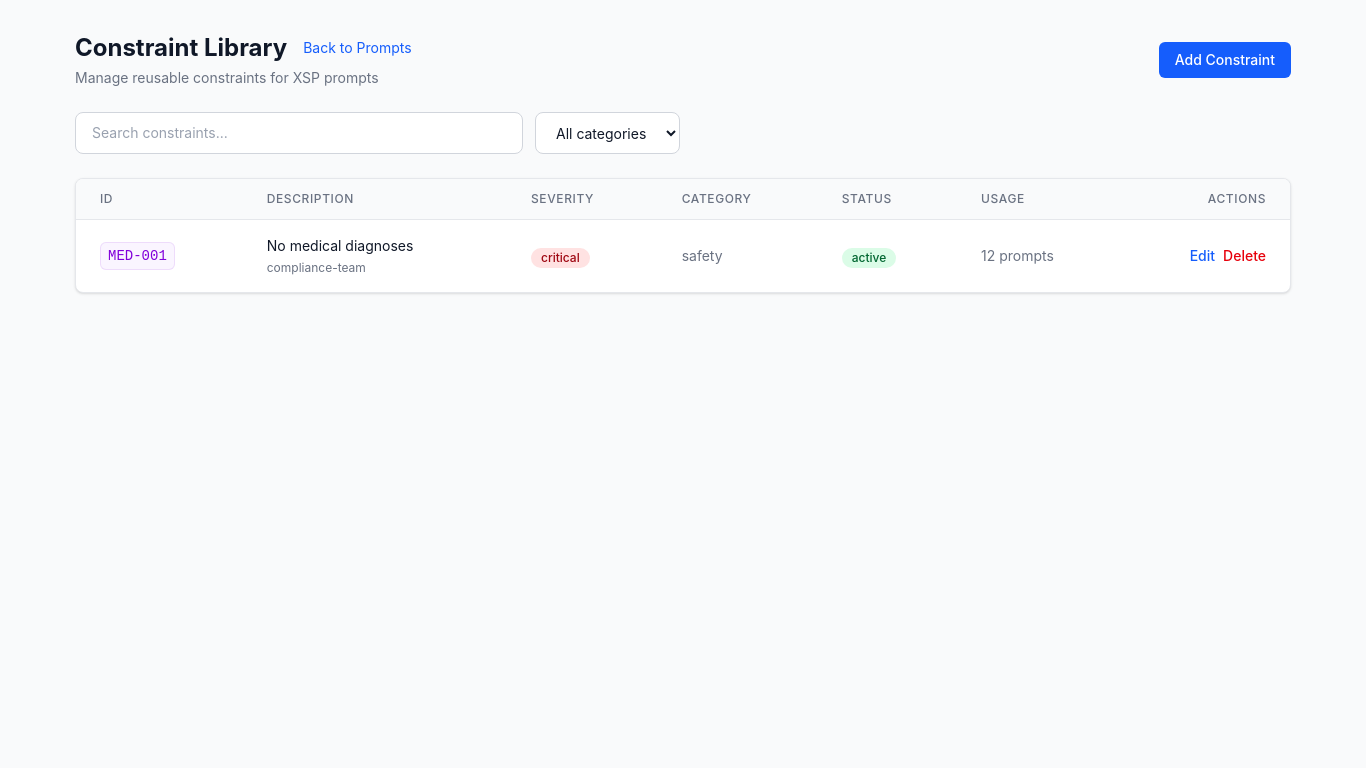
Test: ConstraintLibrary › opens edit modal with pre-filled data when clicking Edit
The image size is (1366, 768).
Check: the text "MED-001" is shown, box [100,242,175,270]
Click the button "Edit": (1202, 256) [1190,246,1215,266]
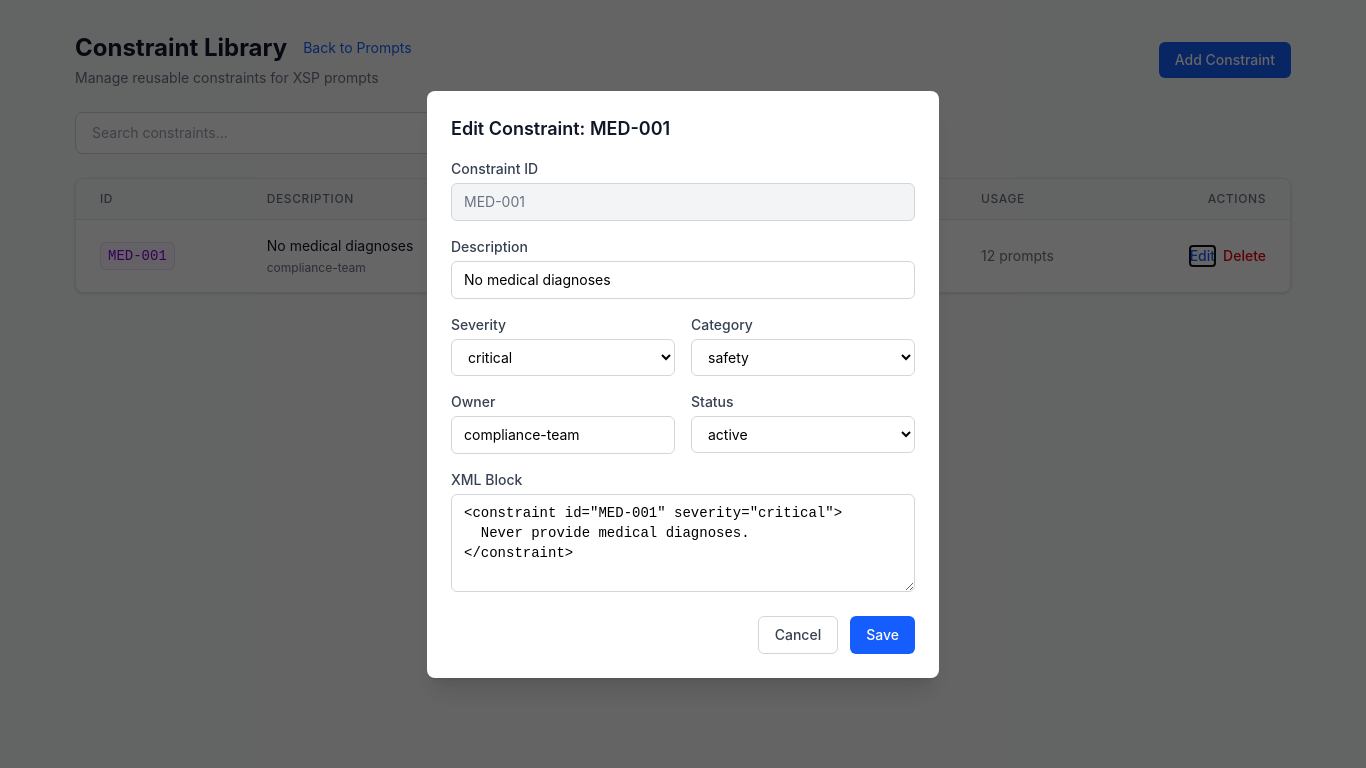
Check: the element with test id "constraint-form-modal" is shown
Check: the heading "Edit Constraint: MED-001" is shown, box [451,118,670,138]
Check: the field labelled "Constraint ID" is disabled, box [451,182,915,220]
